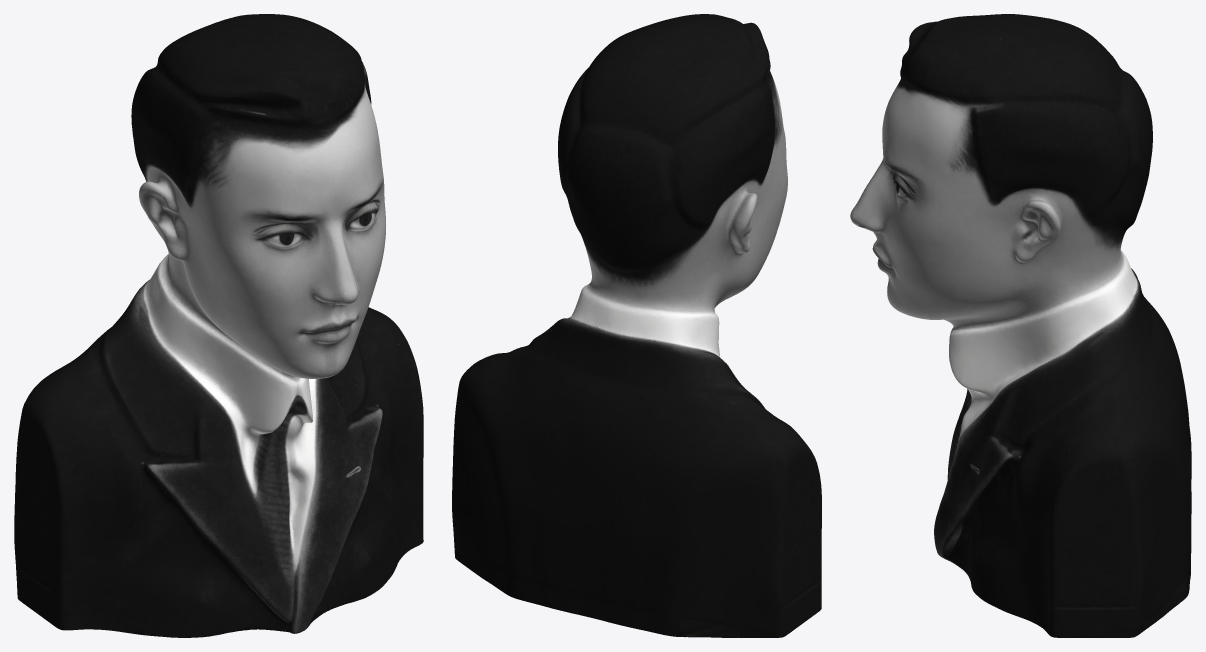
Rendered from Meshy_AI_Stoic_Elegance_1023145158_texture-compressed.glb.
The picture shows the model from 3 angles, left to right: view 1: azimuth 30°, elevation 25°; view 2: azimuth 150°, elevation 25°; view 3: azimuth 270°, elevation 25°; orthographic projection. The views are drawn at different scales.
Visible parts, largest first — view 1: mesh_0; view 2: mesh_0; view 3: mesh_0.
Part boxes in pixels (box(x1,y1,x2,y2)): mesh_0: box(14, 14, 423, 637); mesh_0: box(452, 14, 821, 637); mesh_0: box(850, 14, 1191, 637).
Size of the model in its own units: 1.27 by 1.9 by 1.11.
Materials: 1 (1 with a texture image).
